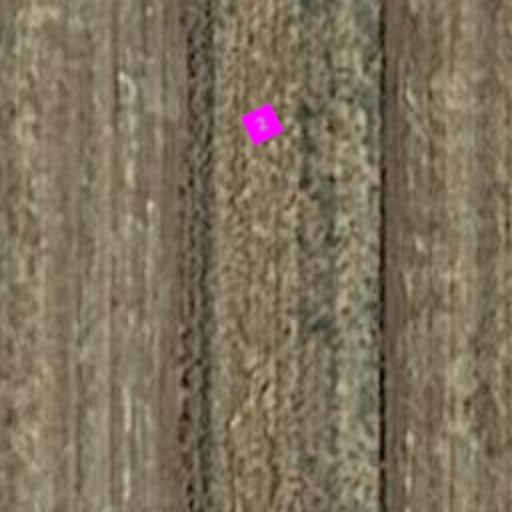rectangle: (238, 100, 286, 148)
